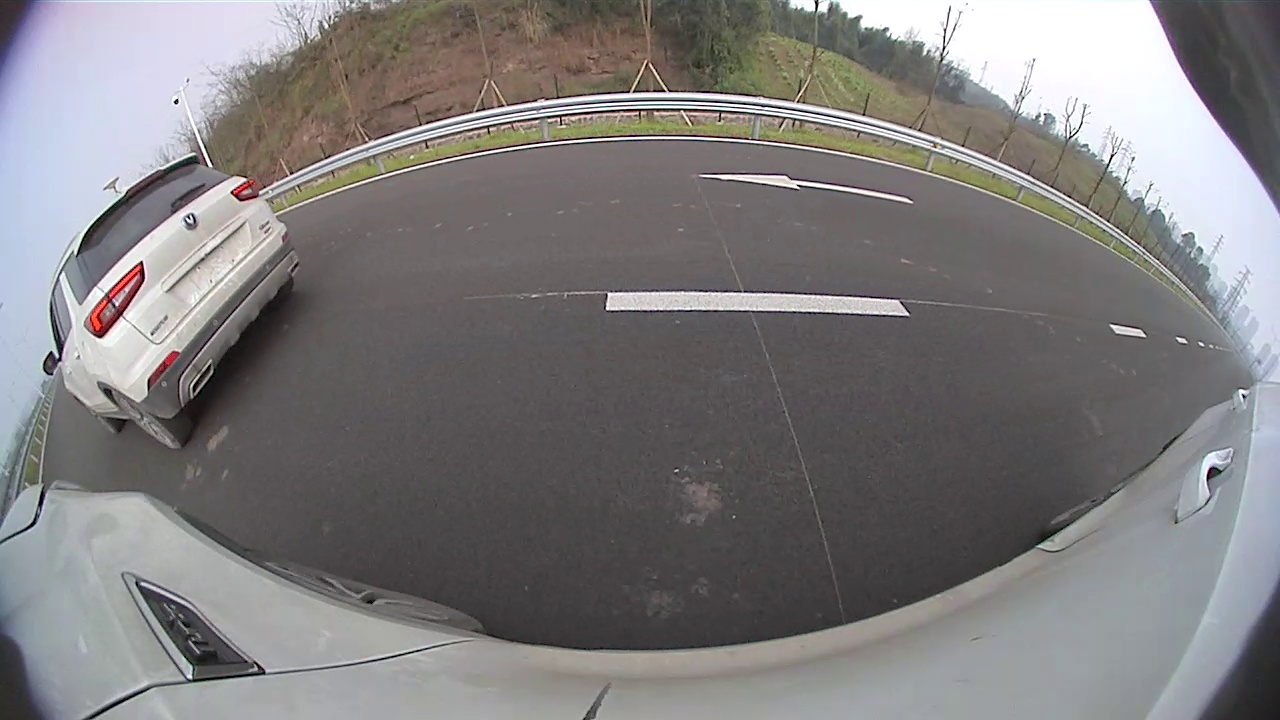car: (284, 87, 587, 284)
front: (562, 171, 588, 226)
rear: (464, 193, 519, 279)
